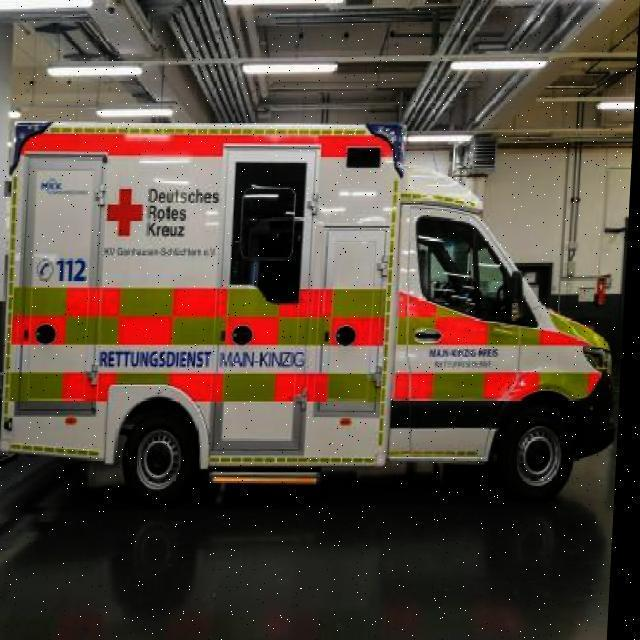Ambulance: (0, 118, 634, 510), (0, 386, 622, 638)
